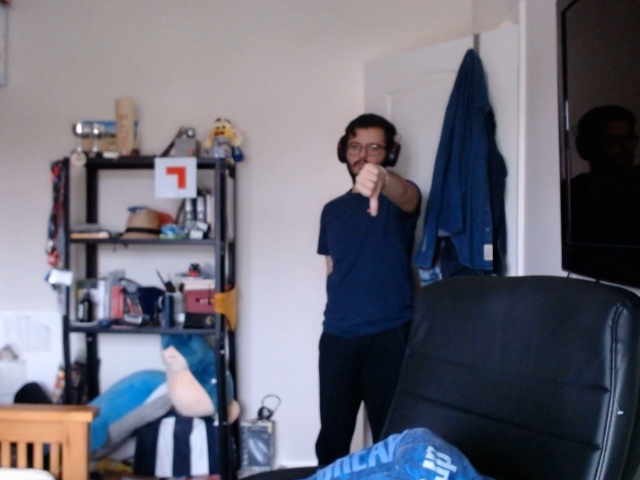Thumbs down: (348, 161, 395, 224)
